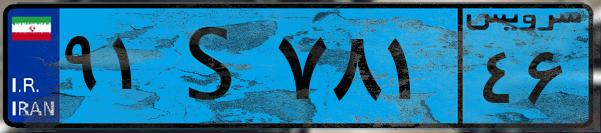1: (385, 28, 445, 110), (110, 28, 158, 98)
4: (475, 38, 525, 113)
6: (525, 38, 570, 115)
7: (270, 28, 330, 110)
8: (330, 28, 385, 110)
9: (57, 26, 110, 100)
S: (158, 12, 270, 120)
